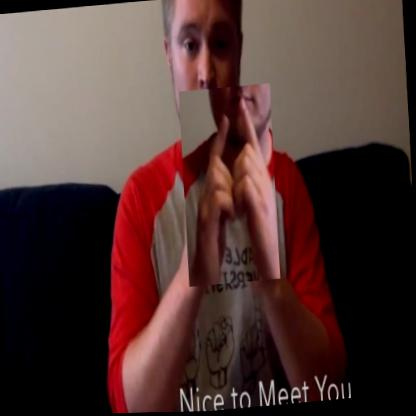NiceToMeetYou: (177, 85, 283, 288)
